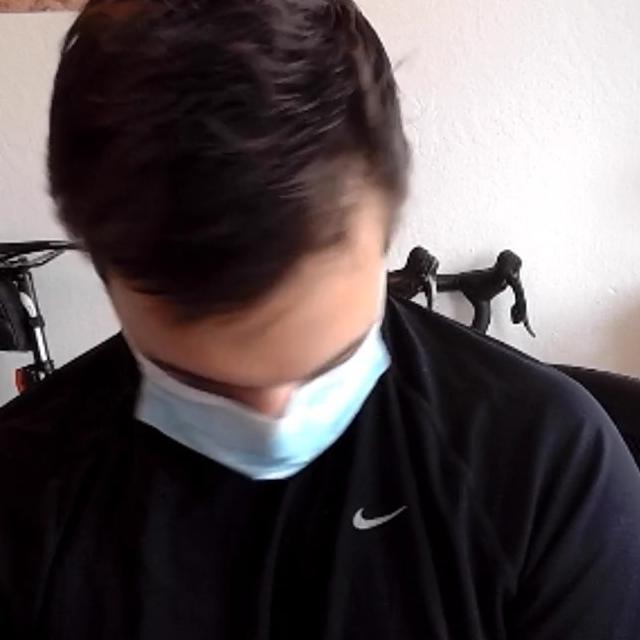Mask: (125, 331, 395, 480)
NO-Hardhat: (32, 0, 407, 301)
NO-Safety Vest: (0, 320, 549, 640)
Person: (0, 0, 640, 640)
